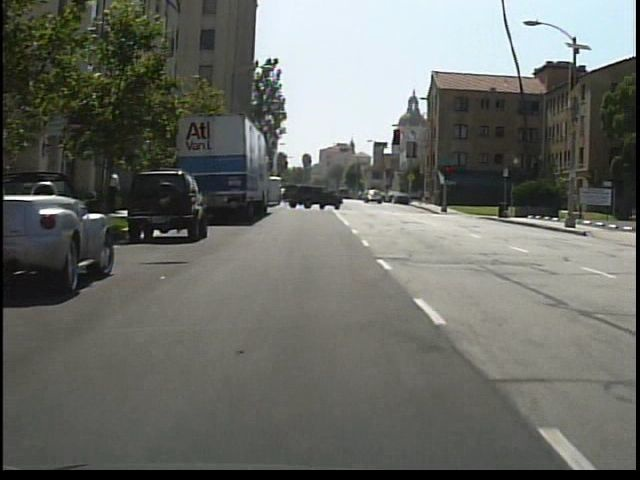person: (107, 162, 129, 215), (416, 188, 426, 210)
